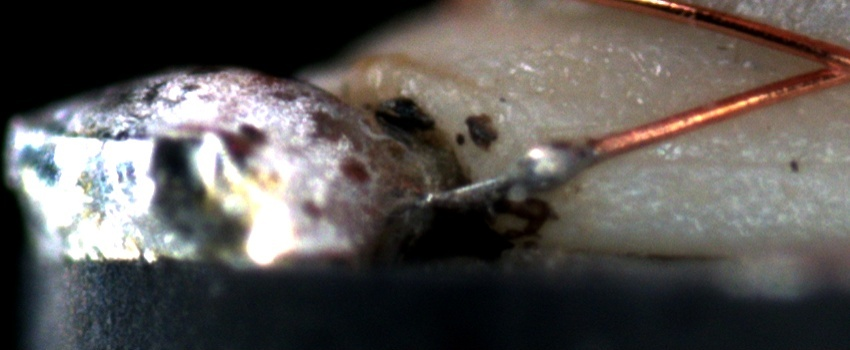CL: (792, 37, 850, 89)
DL: (634, 131, 850, 188)
TB: (507, 137, 602, 200)
TS: (434, 141, 595, 208)
TTCW: (423, 125, 641, 207)
